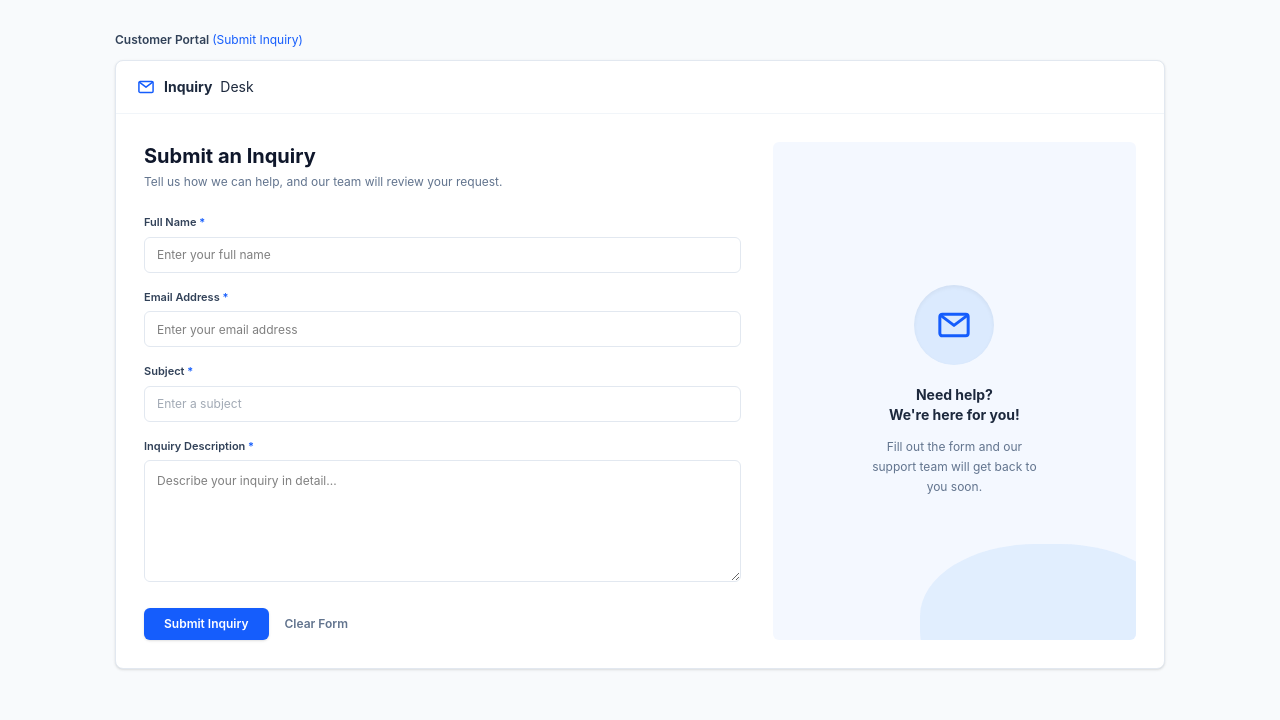
CustomerPortal › displays the API error when submission fails
The width and height of the screenshot is (1280, 720).
Type "Jane Customer" into the field labelled "Full Name *" at (442, 254), box [144,236,741,272]
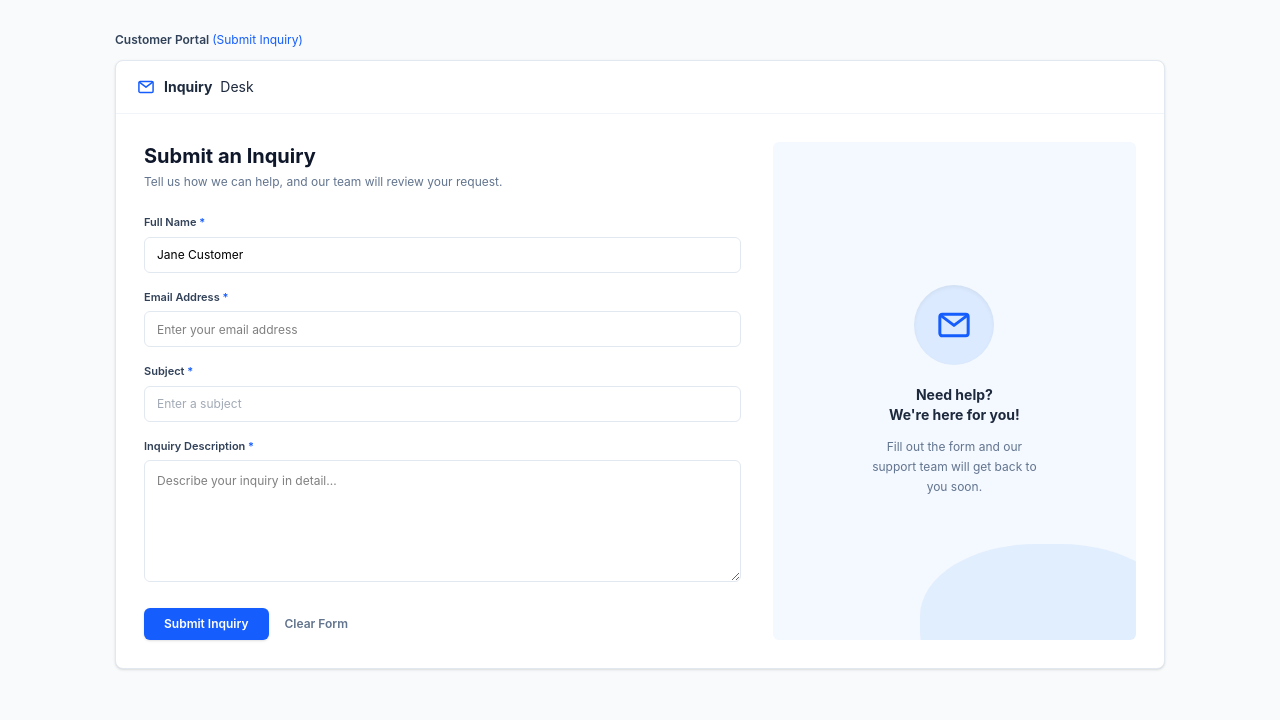
Type "jane@example.com" into the field labelled "Email Address *" at (442, 329), box [144,311,741,347]
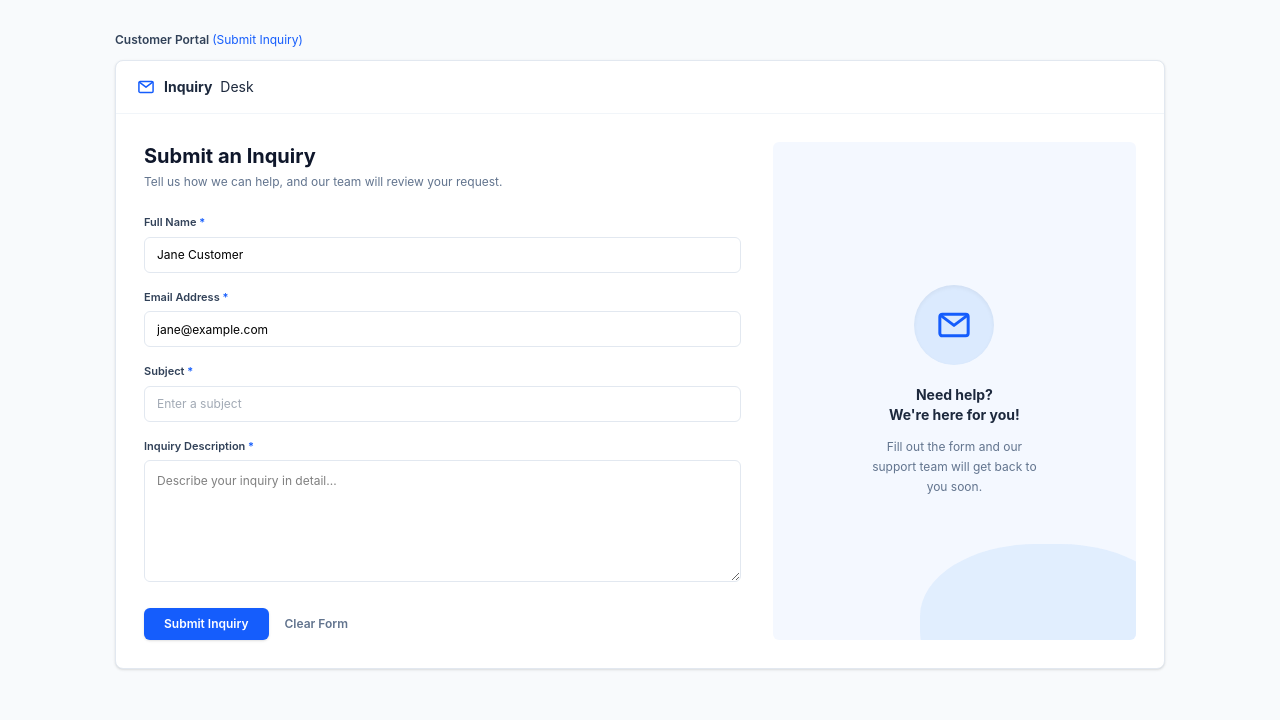
Type "Help with my order" into the field labelled "Subject *" at (442, 404), box [144,386,741,422]
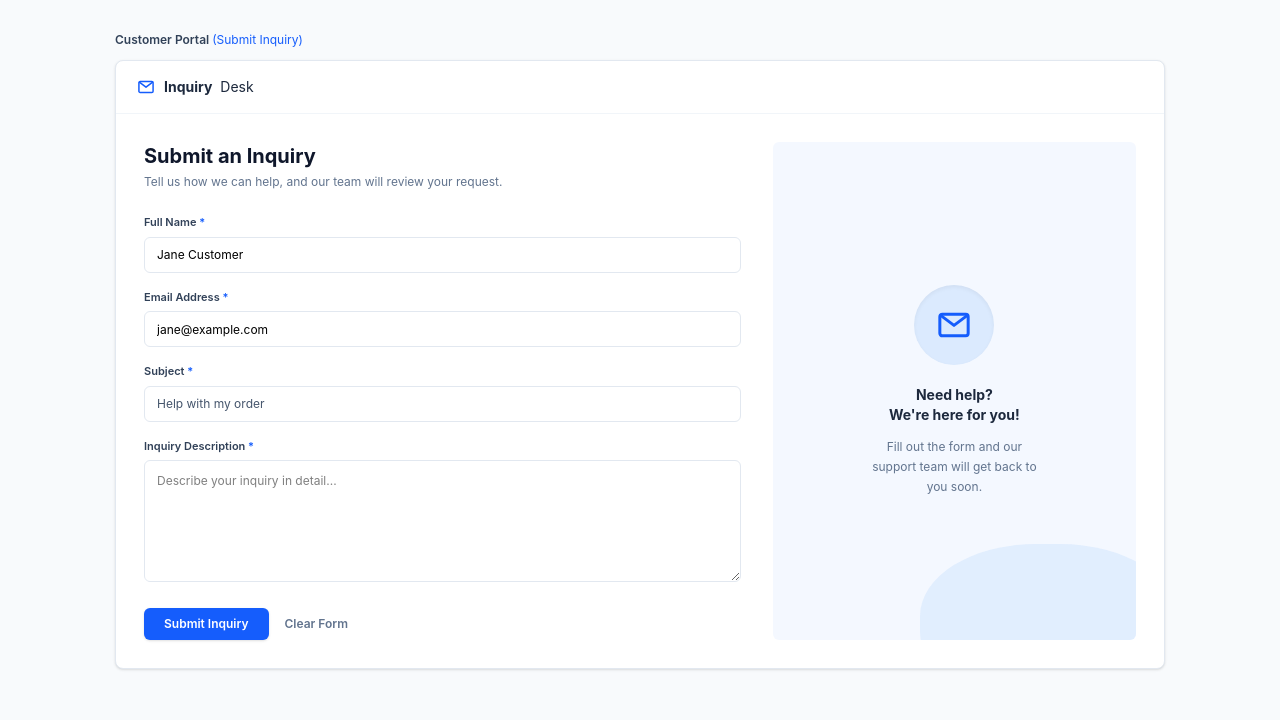
Type "I need help with my recent order." into the text box labelled "Inquiry Description *" at (442, 521), box [144,460,741,582]
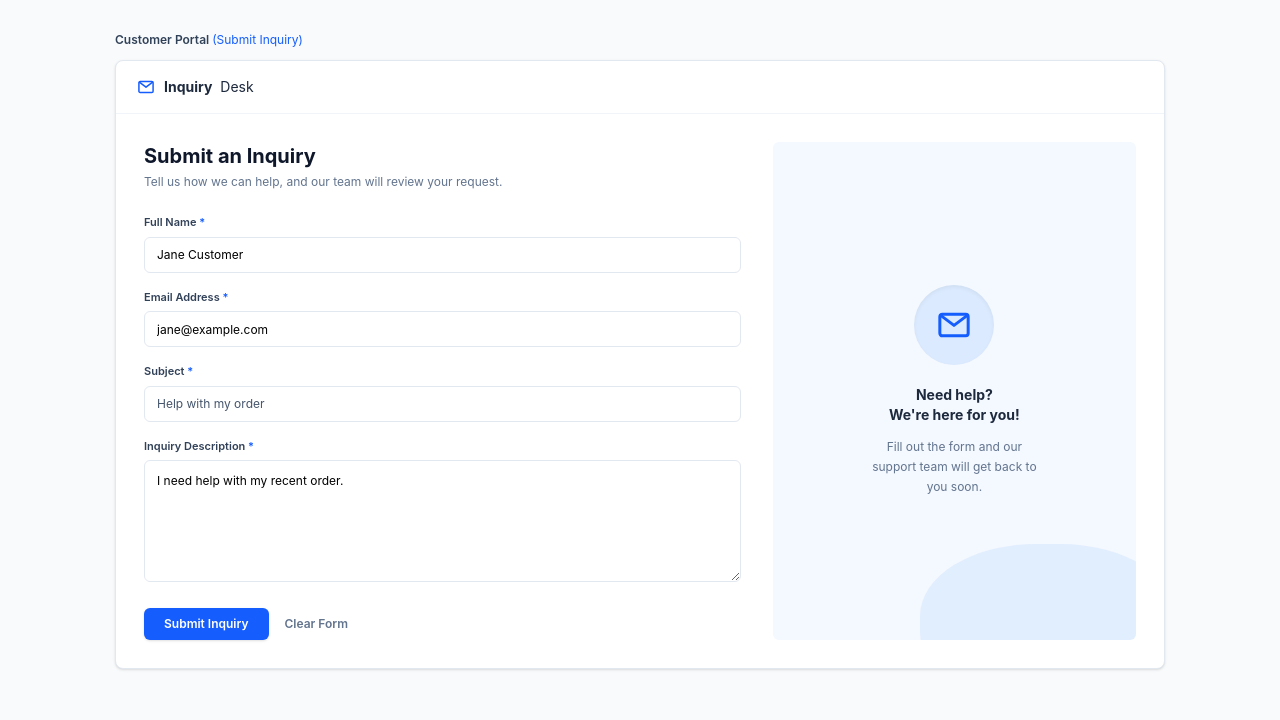
Click the button "Submit Inquiry" at (206, 624), box [144,608,268,640]
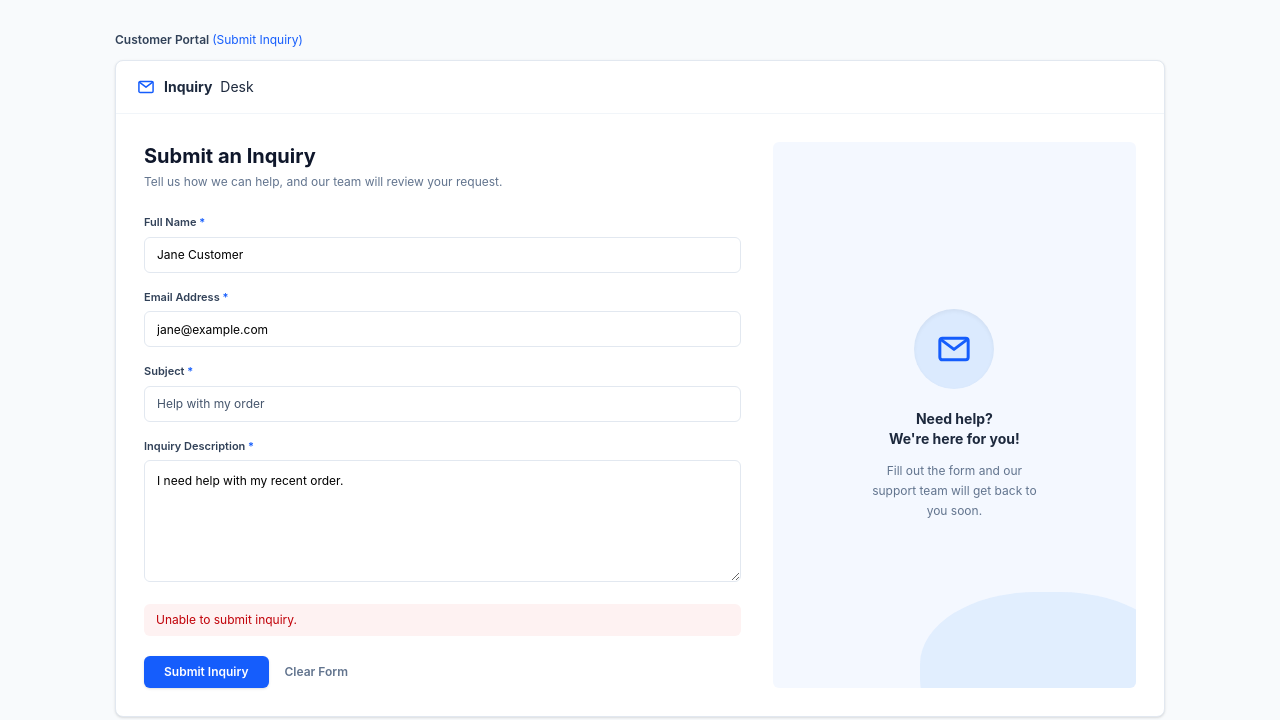
Expected: the message reads "Unable to submit inquiry.", [156,612,297,627]
